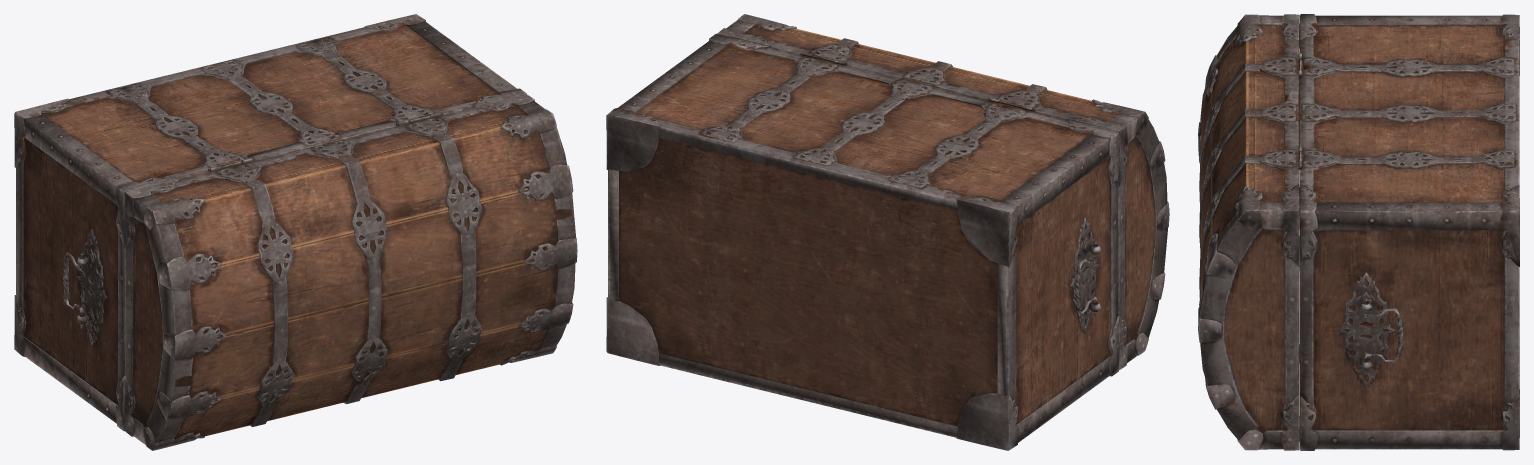
Rendered from chest.obj.
The picture shows the model from 3 angles, left to right: view 1: azimuth 30°, elevation 25°; view 2: azimuth 150°, elevation 25°; view 3: azimuth 270°, elevation 25°; orthographic projection.
Parts seen in each view (by area): view 1: treasure_chest_bottom; view 2: treasure_chest_bottom; view 3: treasure_chest_bottom.
Boxes of the visible parts, bbox=[...] form: treasure_chest_bottom: bbox=[14, 14, 577, 450]; treasure_chest_bottom: bbox=[606, 14, 1169, 450]; treasure_chest_bottom: bbox=[1198, 14, 1519, 450].
Size of the model in its own units: 0.9605 by 0.5225 by 0.6182.
Materials: 1 (1 with a texture image).
